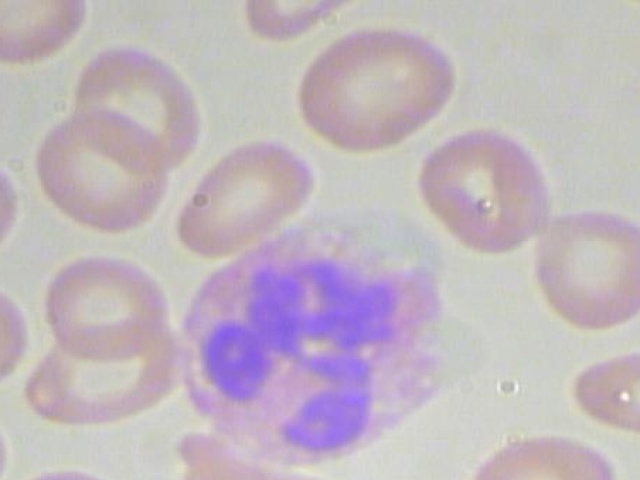RBC: (287, 23, 465, 158), (25, 103, 179, 235), (62, 38, 216, 170), (166, 129, 319, 261), (412, 118, 556, 256), (505, 202, 640, 341), (44, 249, 180, 365), (554, 341, 640, 440), (462, 430, 626, 480), (0, 274, 43, 391), (0, 149, 43, 265), (0, 460, 124, 480)
WBC: (157, 204, 473, 467)
